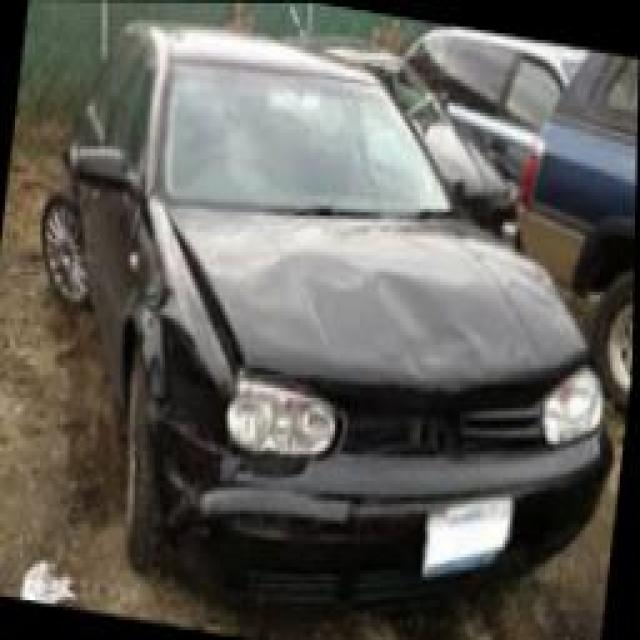Bonnet: (156, 192, 590, 383)
Bumper: (151, 384, 614, 623)
Fender: (109, 198, 234, 449)
